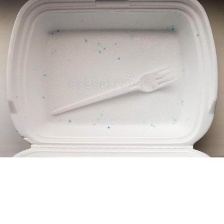foam_box: (0, 0, 224, 157)
